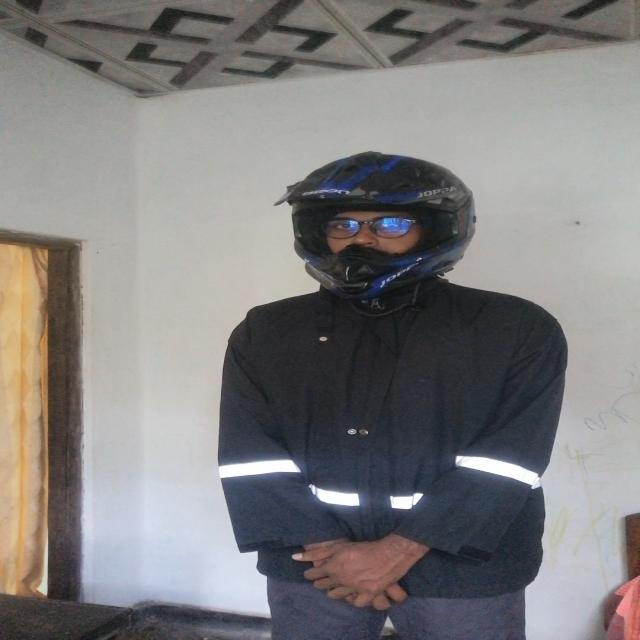Helmet_Wearer: (282, 140, 478, 302)
Jacket_Wearer: (222, 276, 560, 607)
Person: (209, 141, 576, 640)
